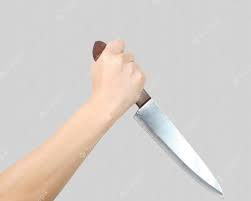weapon-unusual: (81, 35, 231, 195)
